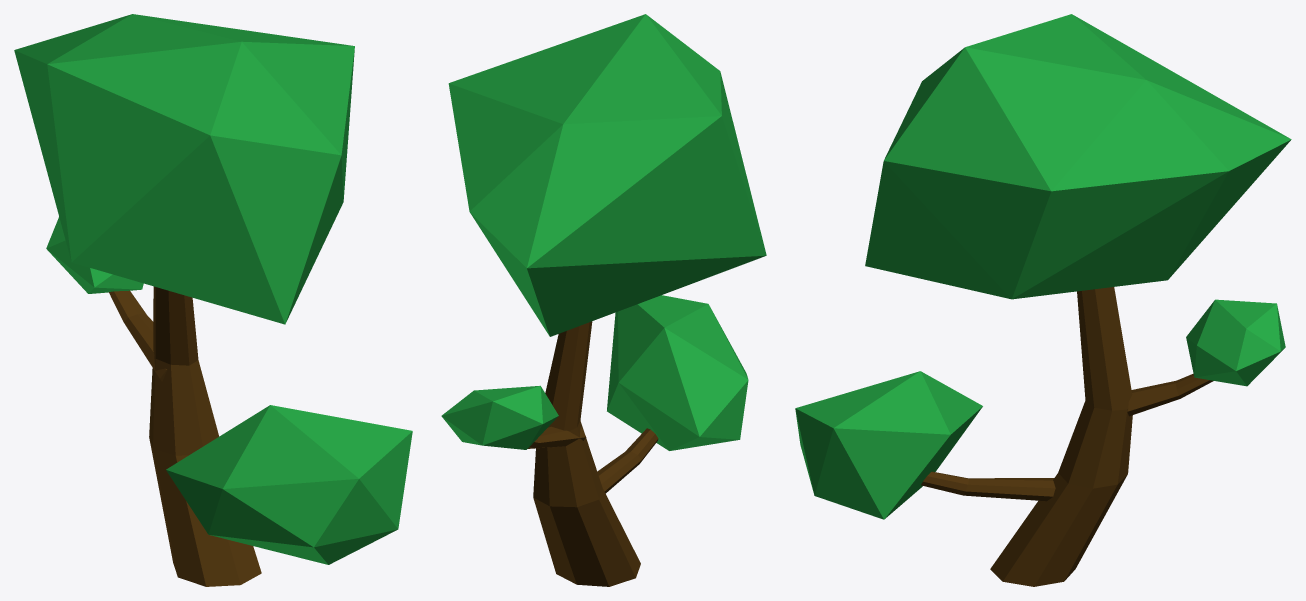
Rendered from tree008.fbx.
3 views of the same model, side by side, from view 1: azimuth 30°, elevation 25°; view 2: azimuth 150°, elevation 25°; view 3: azimuth 270°, elevation 25° (orthographic). The views are drawn at different scales.
Visible parts, largest first — view 1: Icosphere.008; view 2: Icosphere.008; view 3: Icosphere.008.
Part boxes in pixels (<box>): Icosphere.008: <box>14,14,412,586</box>; Icosphere.008: <box>441,14,766,586</box>; Icosphere.008: <box>795,14,1291,586</box>.
Size of the model in its own units: 784 by 1352 by 1179.
